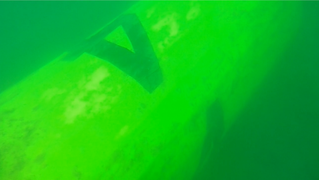4: (58, 12, 166, 93), (190, 97, 224, 180)
pipe: (1, 1, 303, 180)
